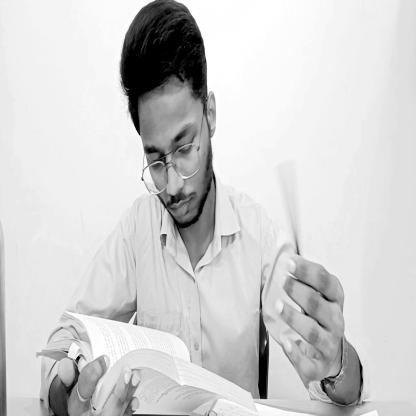Distracted: (126, 1, 219, 236)
